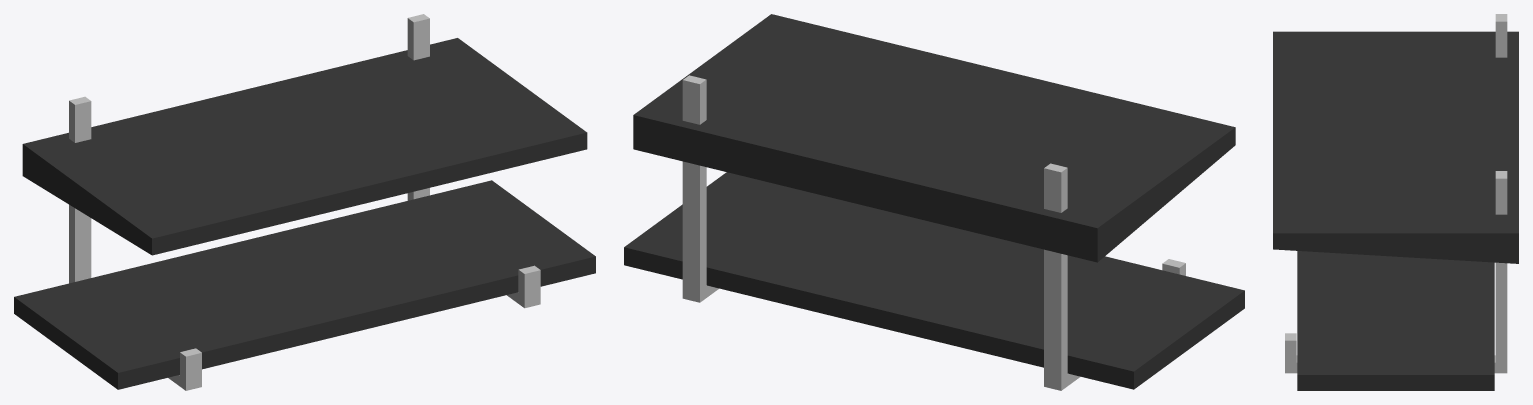
The model's file is shelf_5.glb.
The picture shows the model from 3 angles, left to right: view 1: azimuth 30°, elevation 25°; view 2: azimuth 150°, elevation 25°; view 3: azimuth 270°, elevation 25°; orthographic projection. The views are drawn at different scales.
Parts seen in each view (by area): view 1: Wall Shelf 3, Wall Shelf 5; view 2: Wall Shelf 3, Wall Shelf 5; view 3: Wall Shelf 3, Wall Shelf 5.
Part boxes in pixels (x1,y1,x2,y2): Wall Shelf 3: (22, 38, 587, 255); Wall Shelf 5: (14, 14, 595, 390); Wall Shelf 3: (633, 14, 1235, 262); Wall Shelf 5: (624, 75, 1244, 390); Wall Shelf 3: (1273, 31, 1518, 263); Wall Shelf 5: (1285, 14, 1507, 390).
Size of the model in its own units: 0.9049 by 0.3707 by 0.4243.
2 materials, 2 textured.
